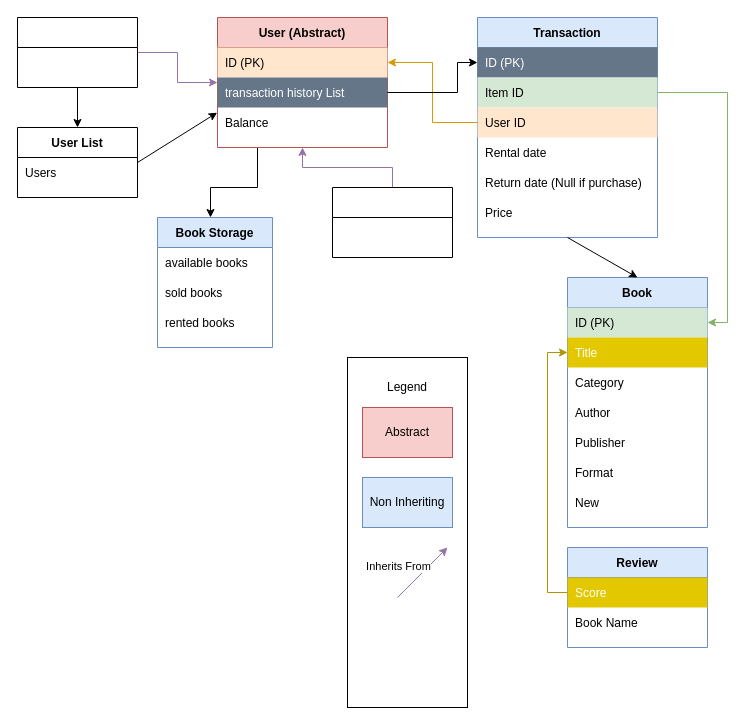
This 753x725 diagram has some shape labels left out. The centre of each missing label's shape, as x and y in pixels:
"Admin" goes at pixel 77 52.
"Customer" goes at pixel 392 222.
